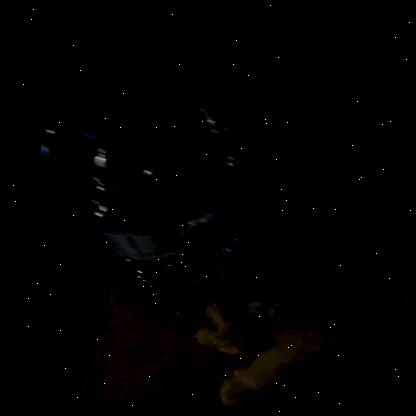Plastic Bottle: (35, 44, 238, 287)
